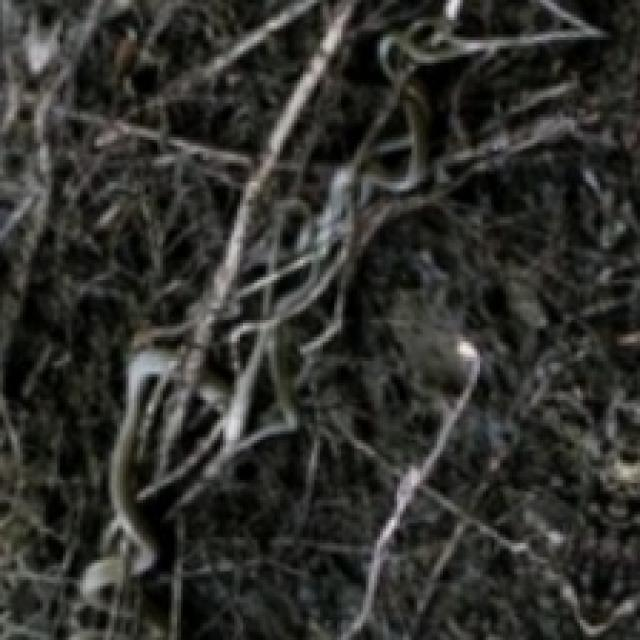paradise tree snake: (86, 0, 637, 637), (94, 0, 637, 637)
